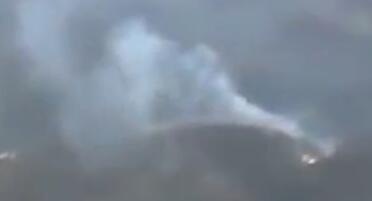yanwu: (10, 0, 336, 166)
